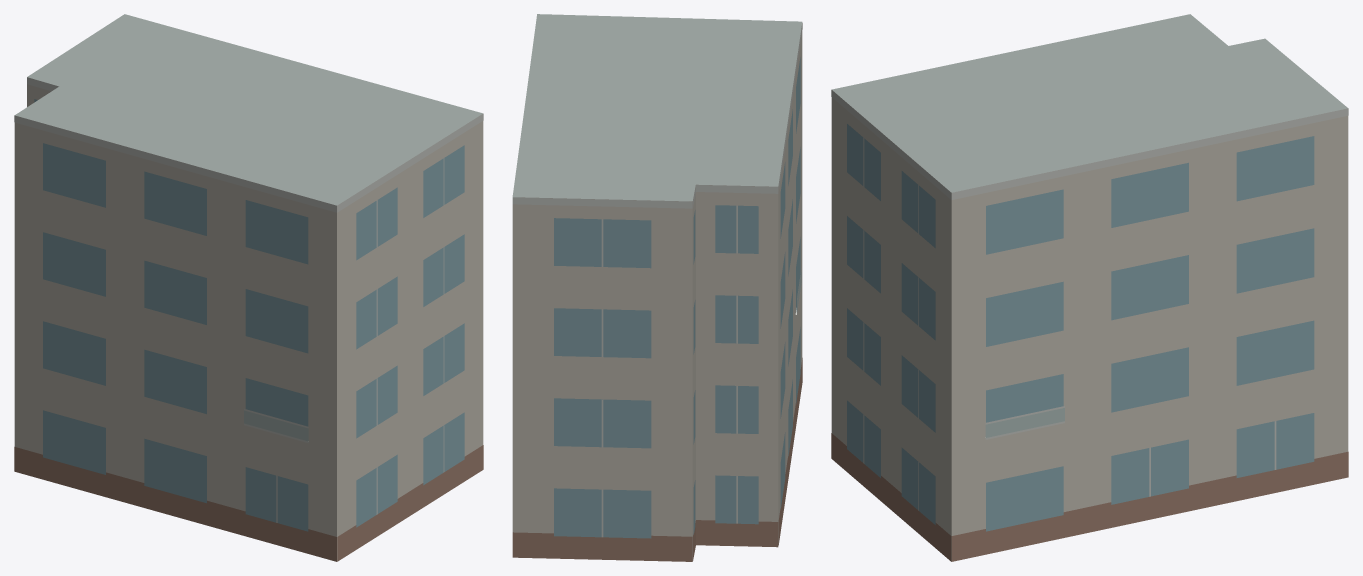
Rendered from survey-upis-32946927.glb.
3 renders of one model, left to right at view 1: azimuth 30°, elevation 25°; view 2: azimuth 150°, elevation 25°; view 3: azimuth 270°, elevation 25°, orthographic. The views are drawn at different scales.
Parts seen in each view (by area): view 1: survey-upis-32946927.tmp; view 2: survey-upis-32946927.tmp; view 3: survey-upis-32946927.tmp.
Part boxes in pixels (box(x1,y1,x2,y2)): survey-upis-32946927.tmp: box(14, 14, 483, 561); survey-upis-32946927.tmp: box(512, 14, 802, 561); survey-upis-32946927.tmp: box(831, 14, 1348, 561).
Bounding box in the file's own units: 12.67 × 12.19 × 15.48.
